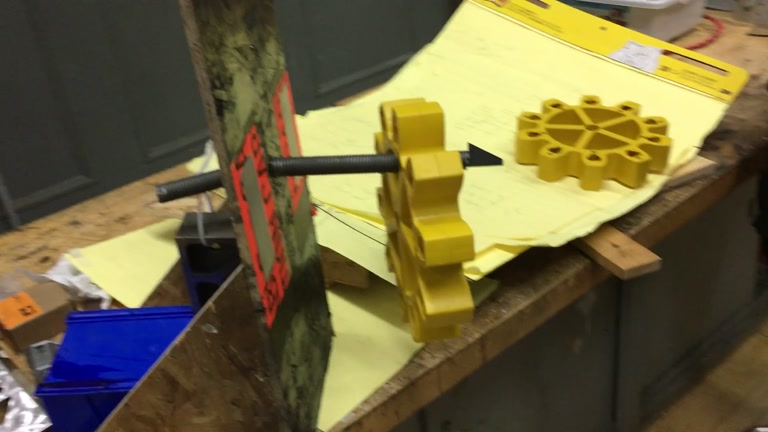gear: (371, 96, 471, 344), (515, 92, 673, 191)
